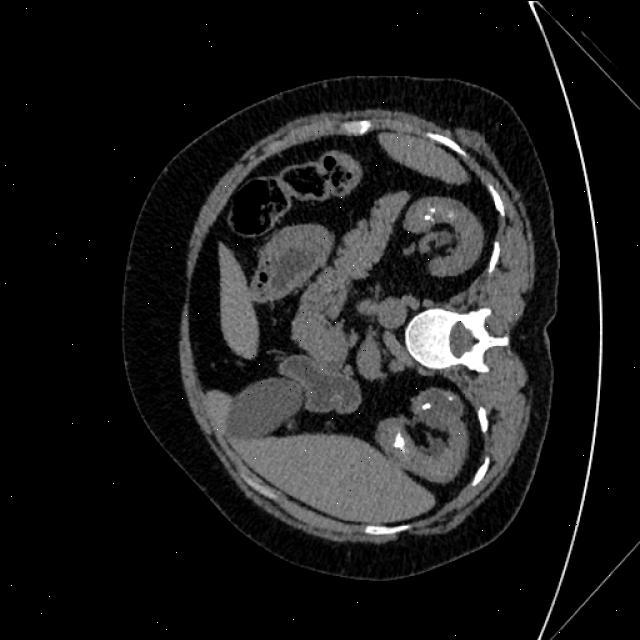kidneystone: (441, 389, 457, 404), (394, 432, 404, 449), (445, 211, 454, 220), (421, 401, 431, 408), (422, 214, 433, 218), (430, 208, 436, 212)
